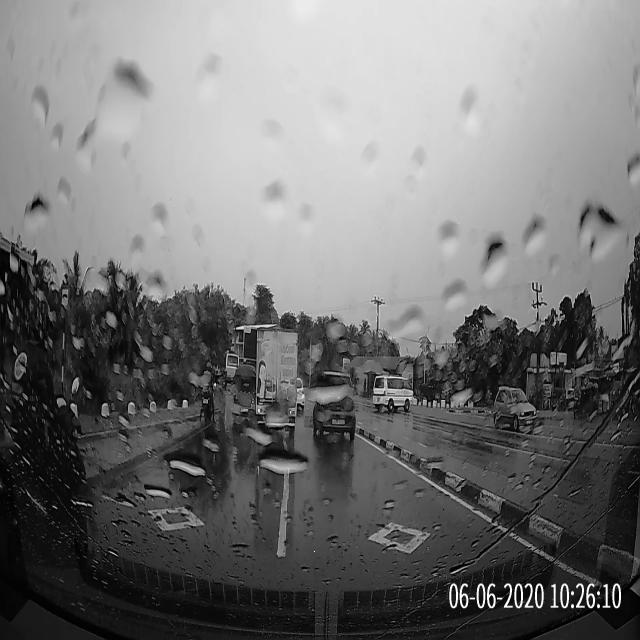diamond: (260, 500, 528, 575)
